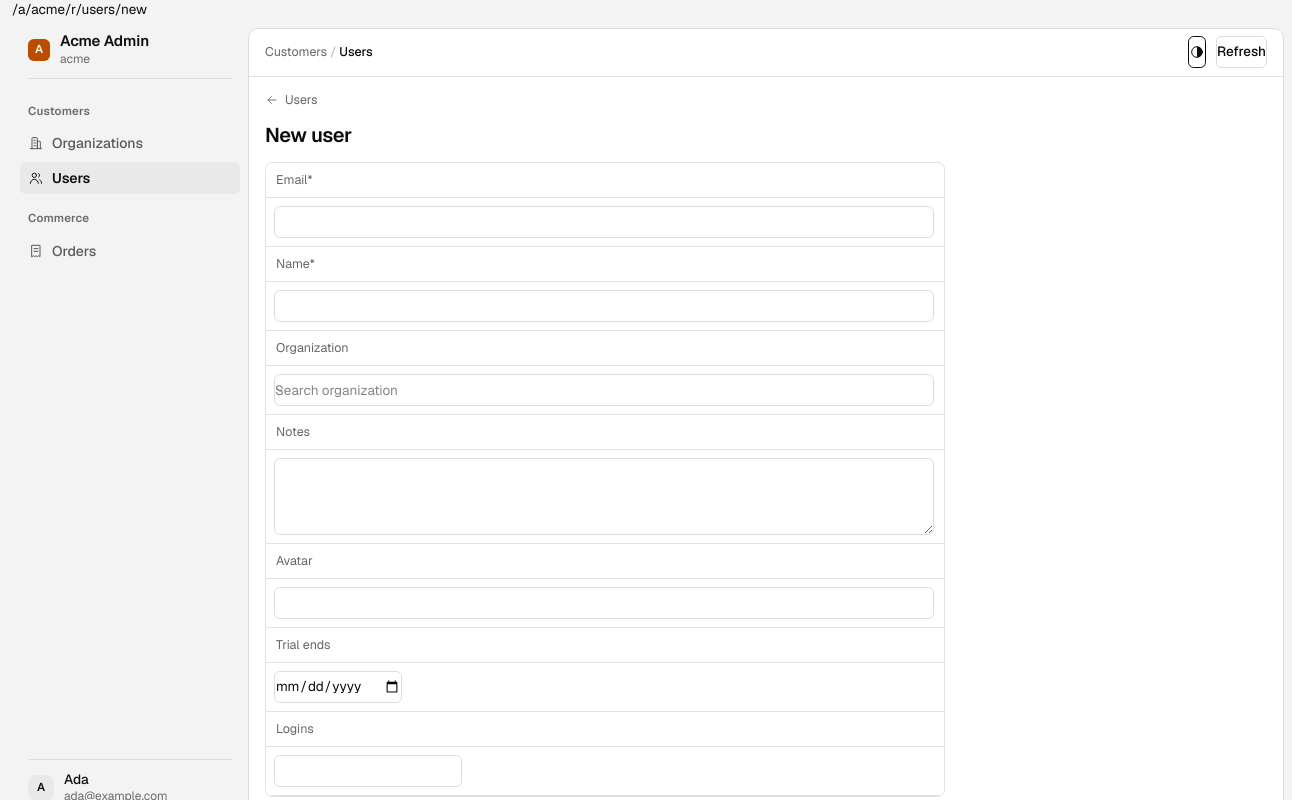
Test: making a record › sends only what was filled in, and lands on the record it made
Expected: the heading "New user" is shown, [265,122,352,148]
Type "ada@example.com" into the field labelled "Email" at x=604, y=222, box [274,206,934,238]
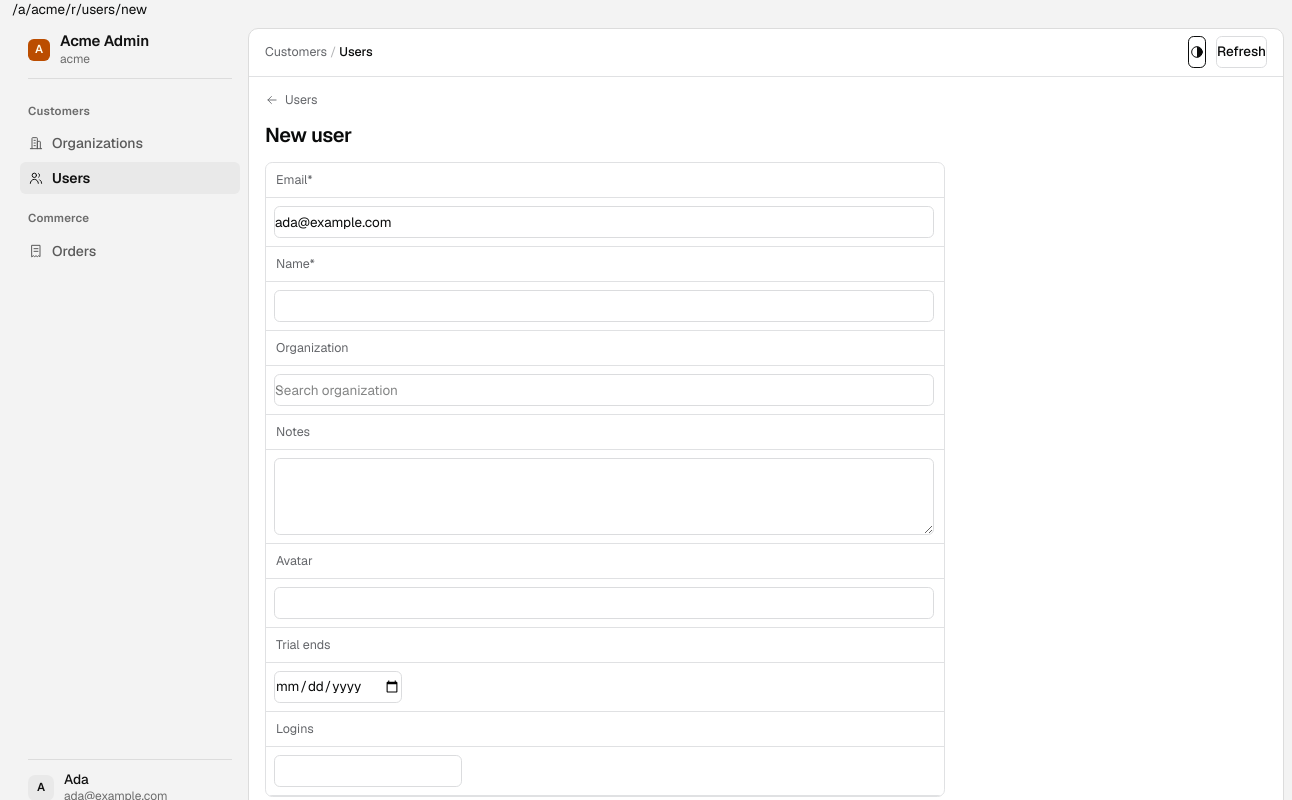
Type "Ada Lovelace" into the field labelled "Name" at x=604, y=306, box [274,290,934,322]
(page scrolled)
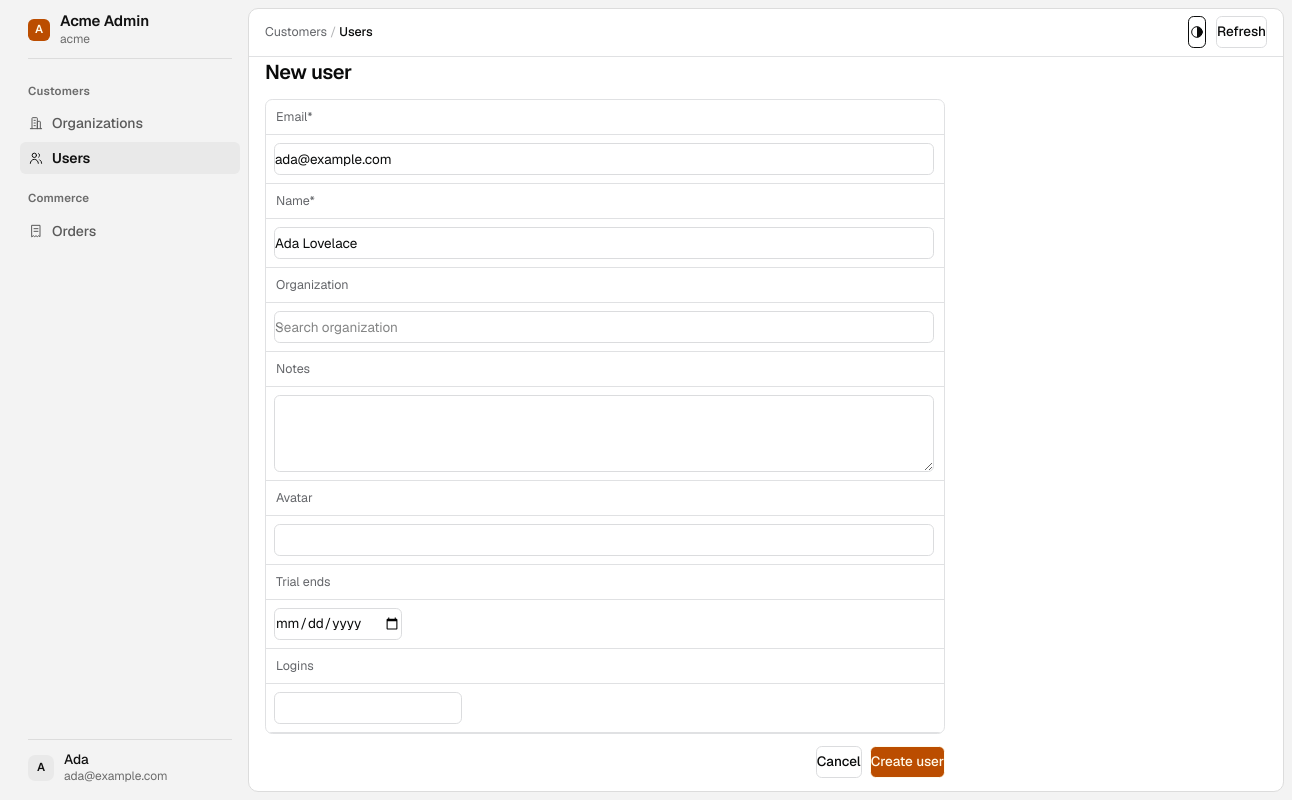
Click the button "Create user" at x=907, y=762, box [870,746,945,778]
(page scrolled)
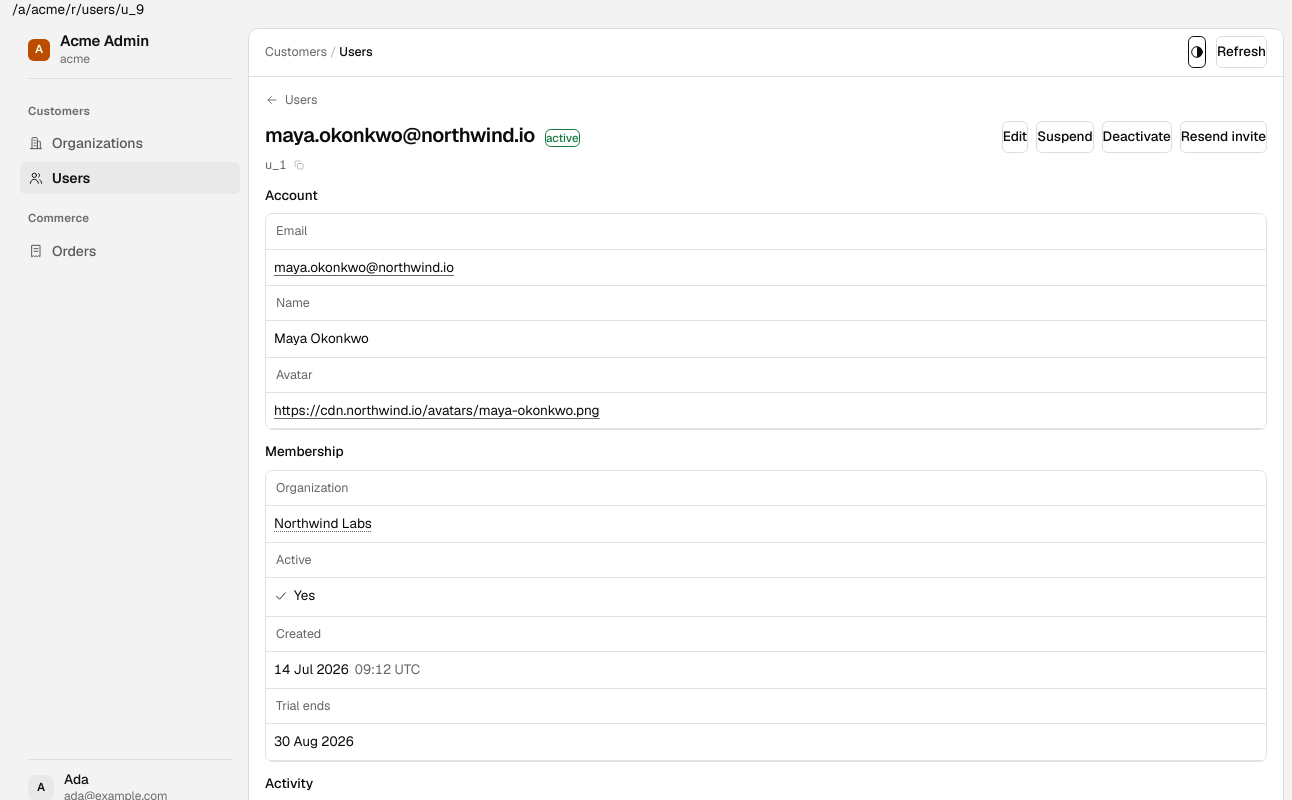
Expected: the text with test id "url" reads "/a/acme/r/users/u_9", [12,0,144,18]
